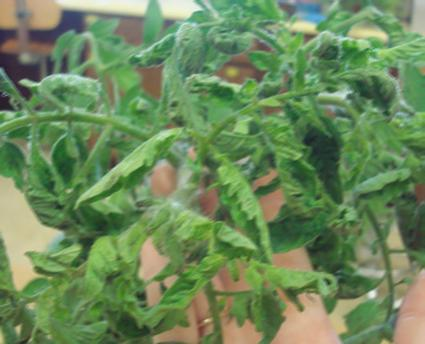Tomato leaf mosaic virus: (79, 122, 190, 206), (204, 141, 271, 261), (152, 254, 227, 312), (275, 132, 321, 219), (127, 33, 180, 70), (0, 139, 31, 192)
